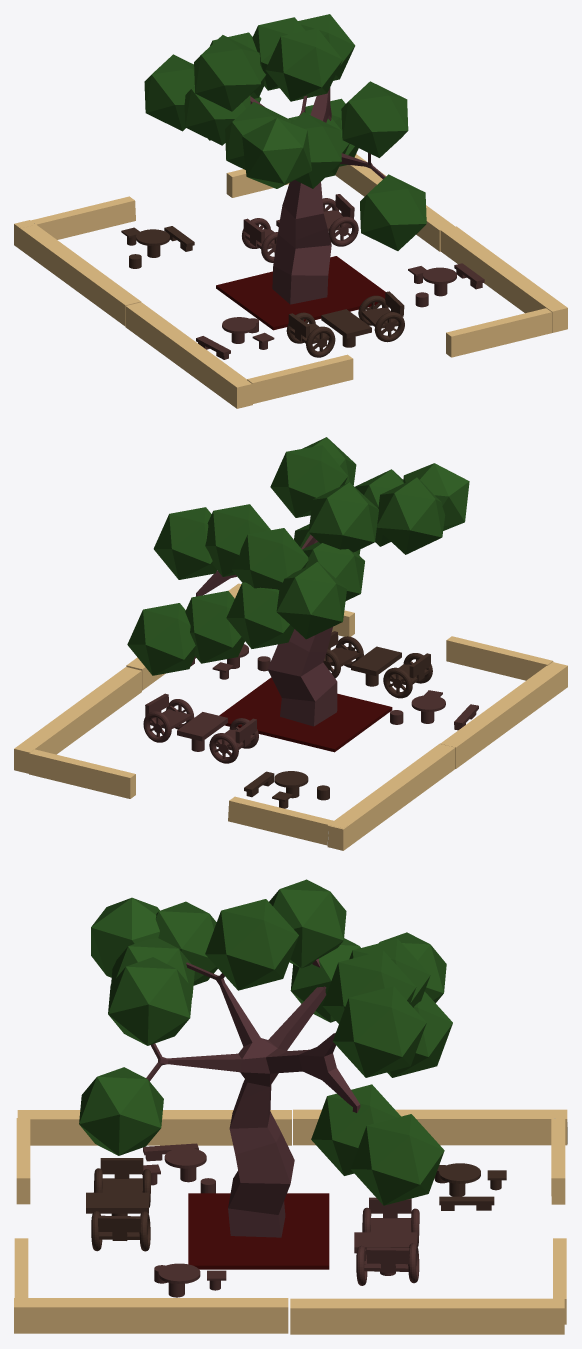
Rendered from BangarNav.glb.
3 views of the same model, one above another, from view 1: azimuth 30°, elevation 25°; view 2: azimuth 150°, elevation 25°; view 3: azimuth 270°, elevation 25° (orthographic). The views are drawn at different scales.
Parts seen in each view (by area): view 1: Icosphere.002, Cube.055, Cube, Cube.009, Cube.018, Cube.059, Cube.054, Cube.020, Cube.058, Cube.046, Cube.052; view 2: Icosphere.002, Cube.055, Cube, Cube.009, Cube.058, Cube.020, Cube.018, Cube.052, Cube.046; view 3: Icosphere.002, Cube, Cube.055, Cube.058, Cube.059, Cube.009, Cube.018, Cube.020, Cube.046, Cube.052, Cube.054, Cylinder.020 (+1 smaller).
Boxes of the visible parts, x1,y1,x2,y2 form: Icosphere.002: (144,14,426,250); Cube.055: (14,196,353,408); Cube: (250,87,385,304); Cube.009: (216,256,385,330); Cube.018: (286,291,404,357); Cube.059: (440,226,567,332); Cube.054: (446,308,551,357); Cube.020: (242,194,358,262); Cube.058: (335,154,454,251); Cube.046: (196,317,274,359); Cube.052: (226,169,289,197); Icosphere.002: (127,437,469,675); Cube.055: (228,636,567,850); Cube: (196,534,337,726); Cube.009: (219,677,392,752); Cube.058: (14,667,141,773); Cube.020: (143,693,258,763); Cube.018: (323,631,432,698); Cube.052: (29,749,135,798); Cube.046: (390,690,478,726); Icosphere.002: (79,879,452,1205); Cube: (146,958,360,1237); Cube.055: (16,1109,567,1204); Cube.058: (290,1298,564,1334); Cube.059: (14,1298,288,1333); Cube.009: (188,1193,329,1269); Cube.018: (86,1158,151,1251); Cube.020: (354,1197,419,1285); Cube.046: (142,1143,215,1193); Cube.052: (553,1238,566,1324); Cube.054: (14,1238,28,1297); Cylinder.020: (158,1263,200,1283).
Size of what is drawn, in the model's own units: 29.02 by 22.57 by 34.33.
